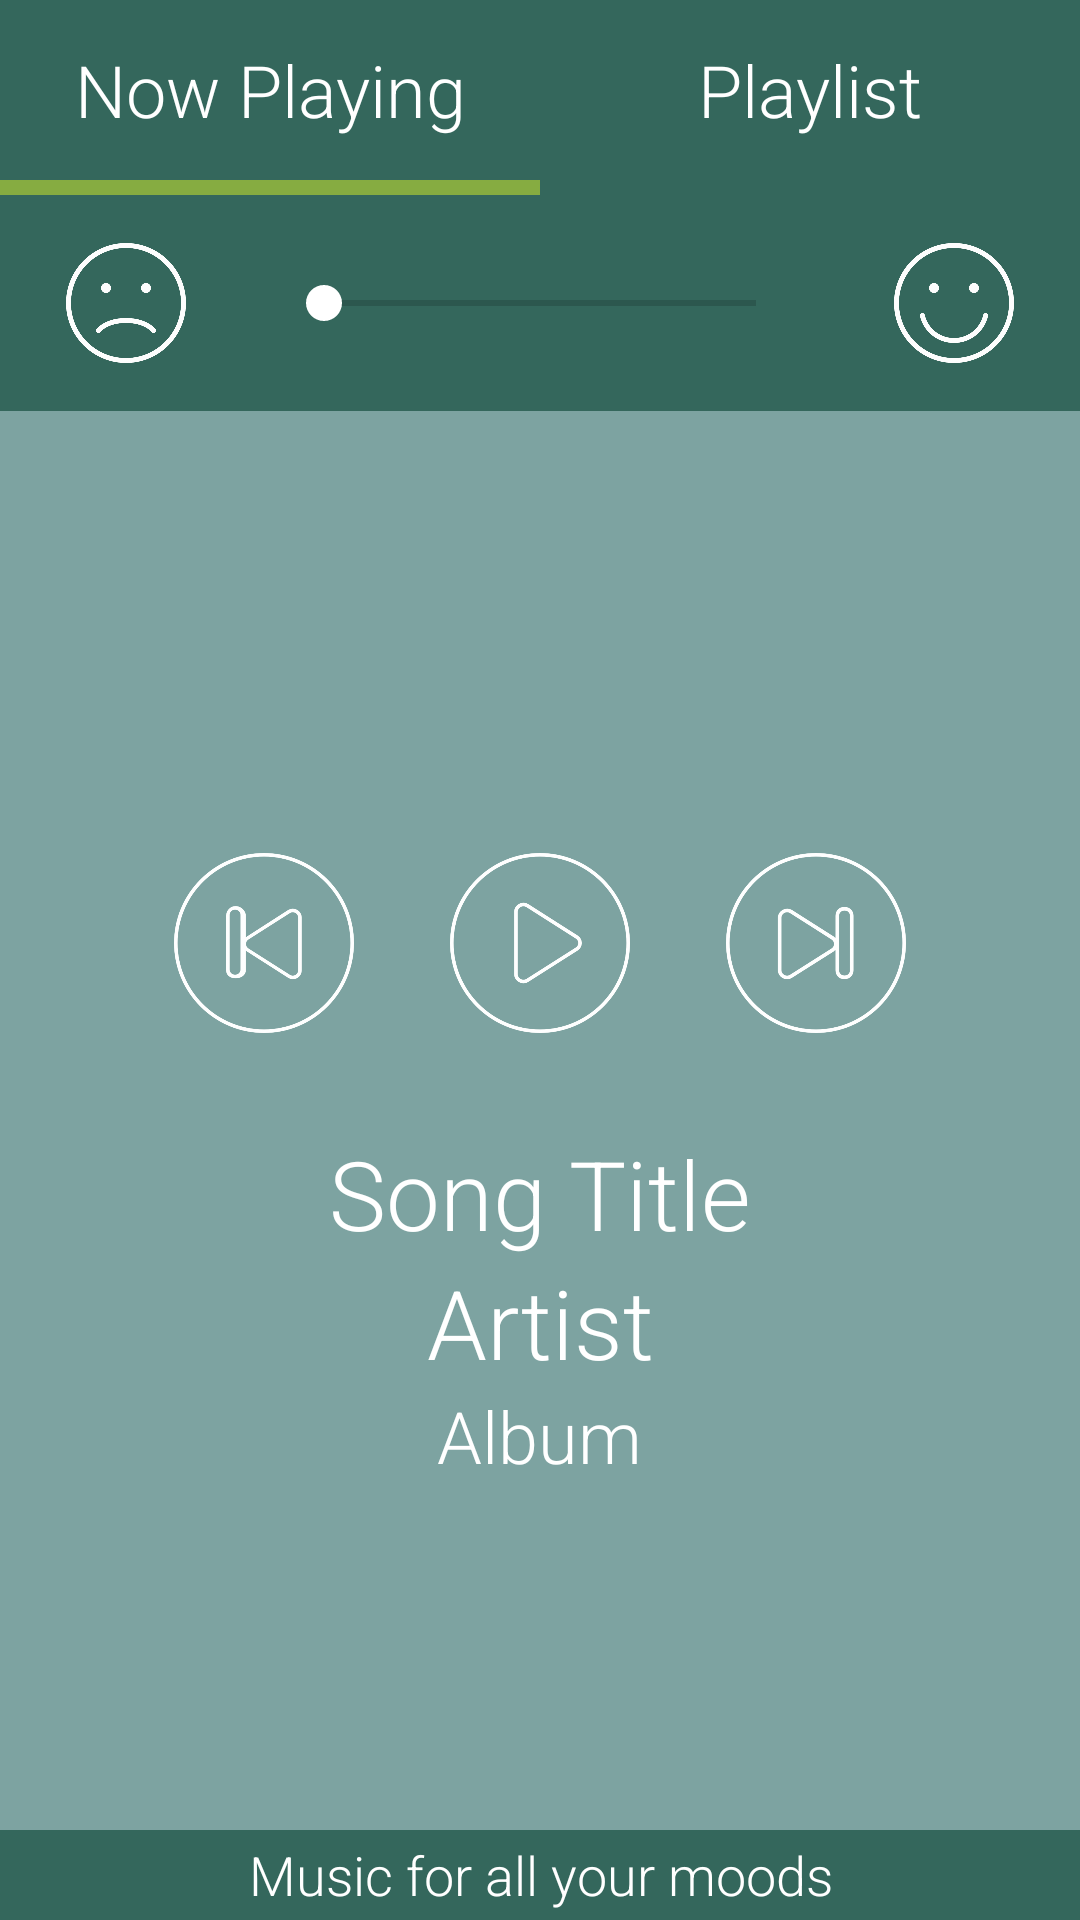

Icon bounding boxes for this 1080*1920 phone screenshot, format (left=x1, top=y1, right=x2, bottom=y2):
next: (left=726, top=853, right=906, bottom=1033)
previous: (left=174, top=853, right=354, bottom=1033)
sad: (left=66, top=243, right=186, bottom=363)
smile: (left=894, top=243, right=1014, bottom=363)
